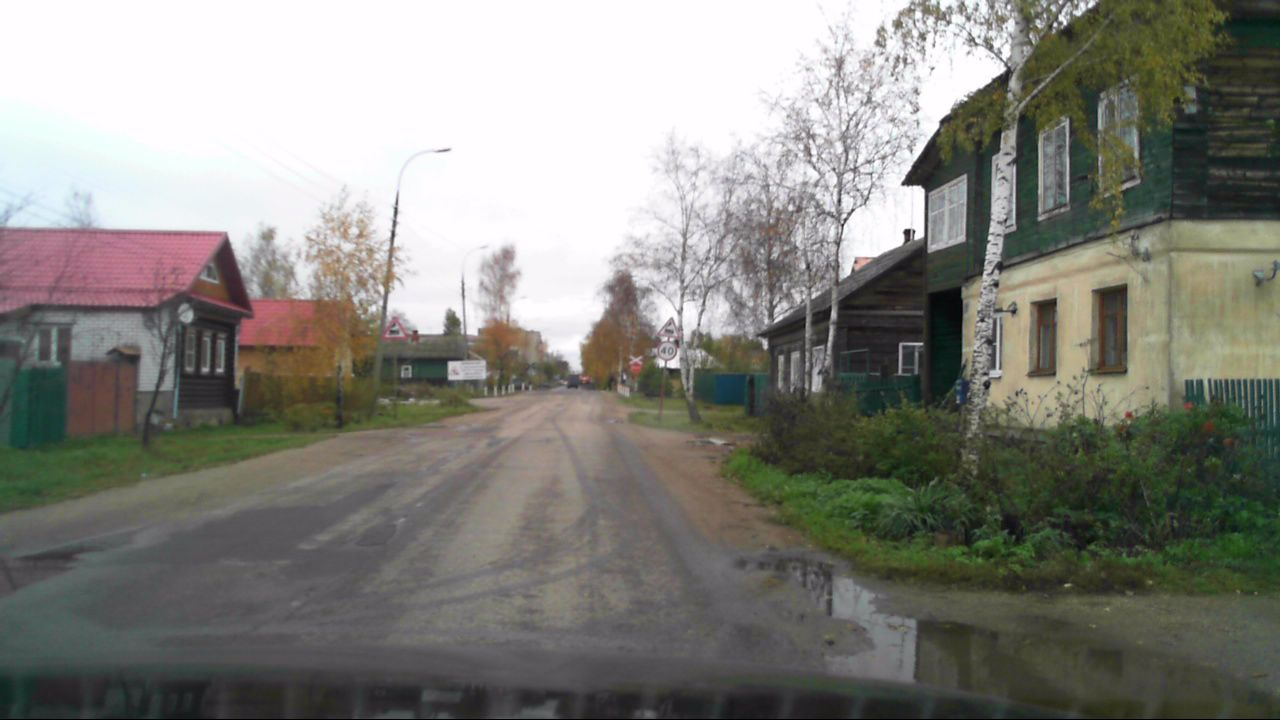speed_warning_40: (658, 341, 676, 360)
